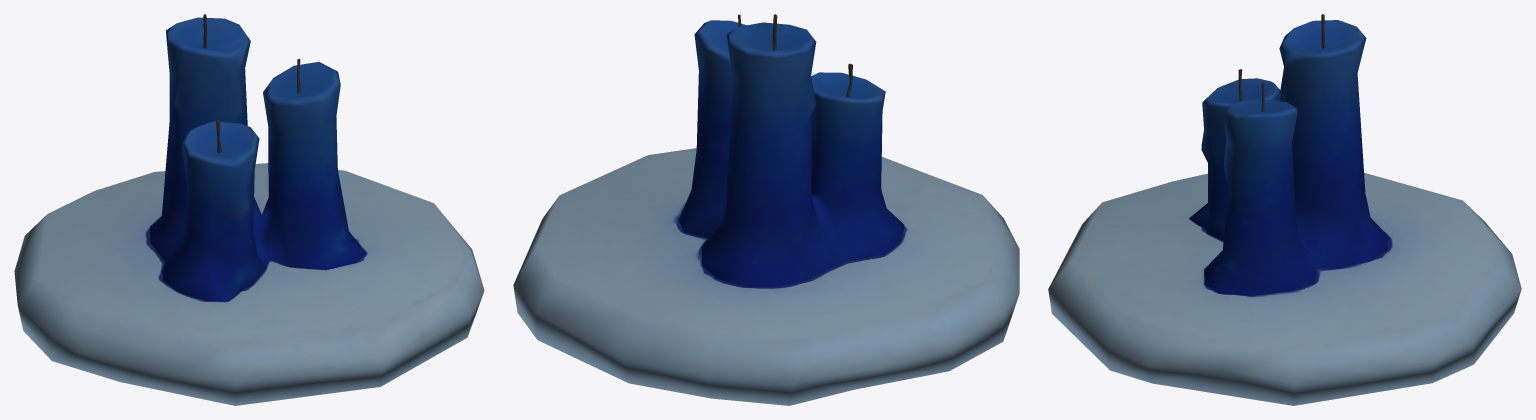
The model's file is Meshy_AI_model_20261128_texture.fbx.
3 views of the same model, side by side, from view 1: azimuth 30°, elevation 25°; view 2: azimuth 150°, elevation 25°; view 3: azimuth 270°, elevation 25° (orthographic). The views are drawn at different scales.
Parts seen in each view (by area): view 1: geometry_0; view 2: geometry_0; view 3: geometry_0.
Part boxes in pixels (box(x1,y1,x2,y2)): geometry_0: box(14, 14, 484, 405); geometry_0: box(513, 14, 1019, 405); geometry_0: box(1048, 14, 1521, 405).
Size of the model in its own units: 100 by 67.04 by 99.88.
1 material, 1 textured.
